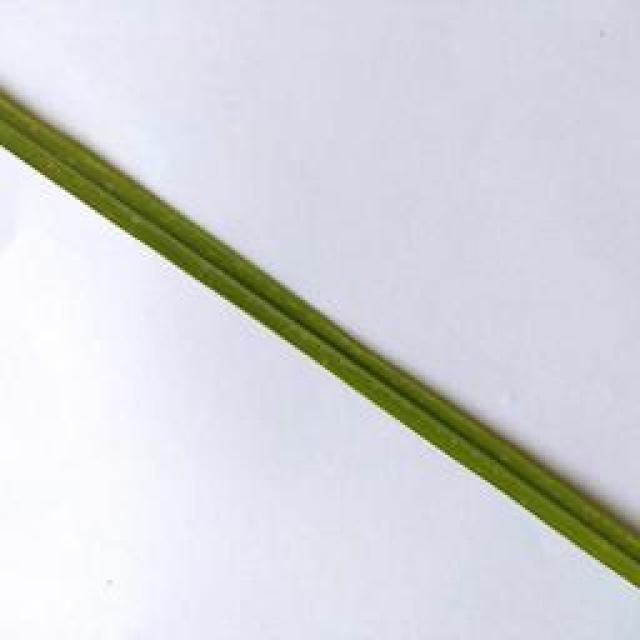Healthy: (0, 90, 640, 592)
